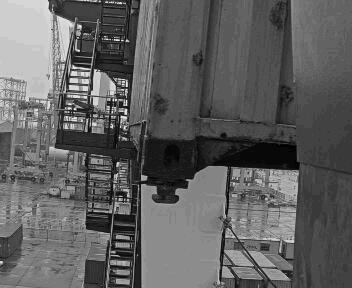twist_lock_1: (142, 174, 194, 209)
